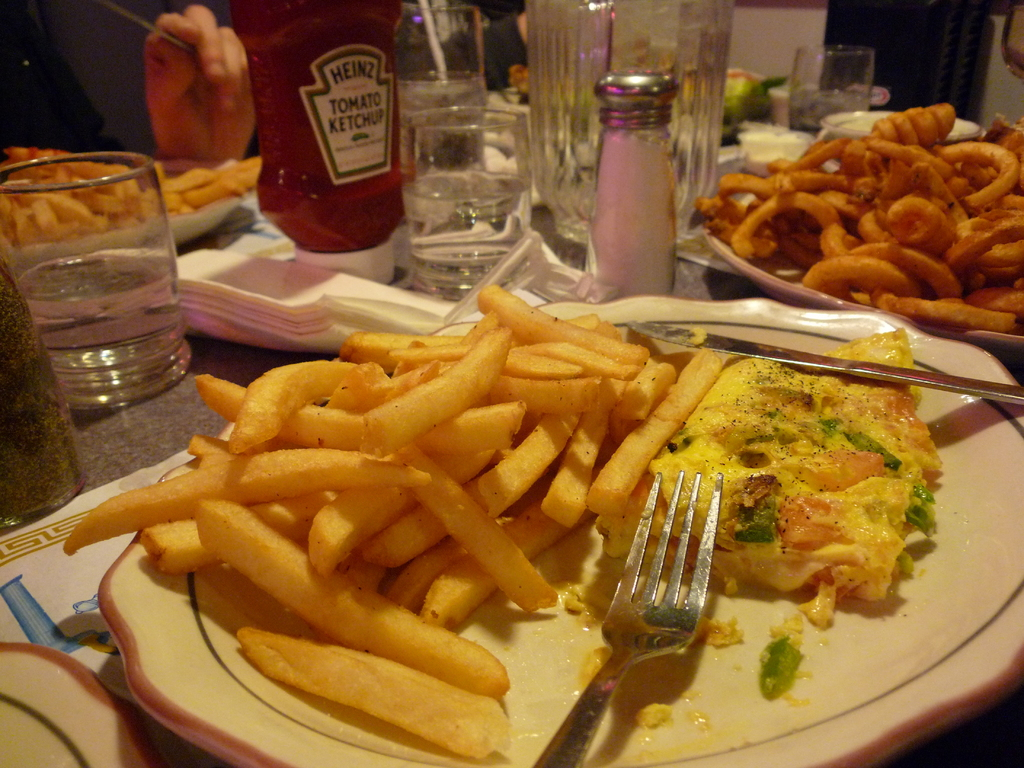French fries: (55, 273, 725, 767), (703, 104, 1023, 327), (0, 145, 260, 244)
